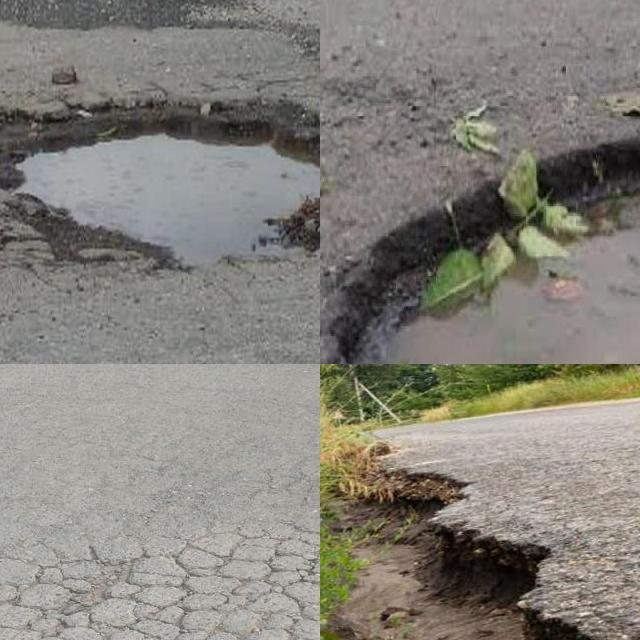Lubang: (353, 141, 640, 364), (0, 104, 320, 270)
Pinggir: (356, 458, 640, 640)
Retak Buaya: (0, 531, 320, 640)
